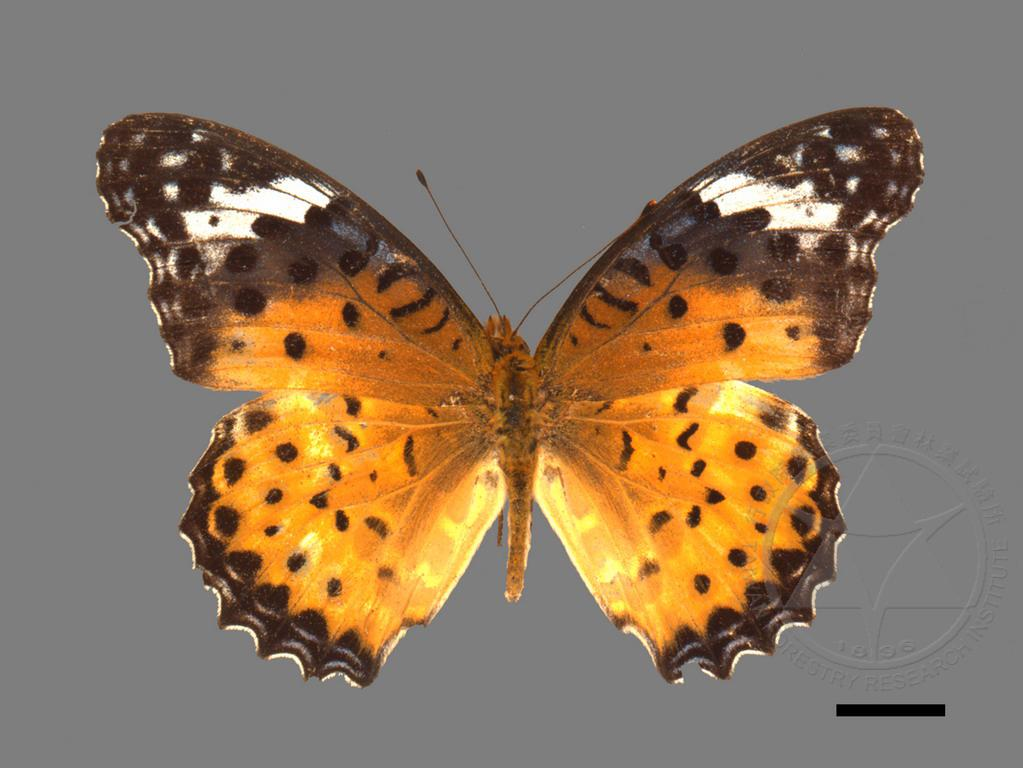Argyreus hyperbius: (77, 98, 924, 684)
butterfly: (79, 100, 926, 686)
